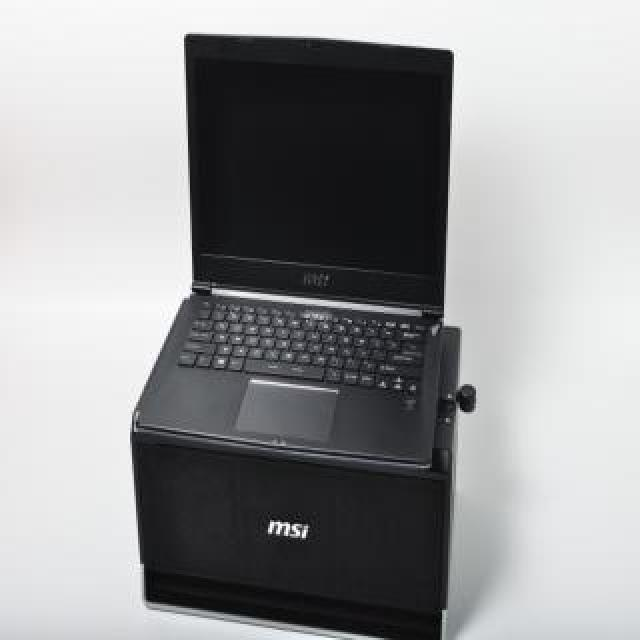laptop_computer: (132, 12, 496, 640)
